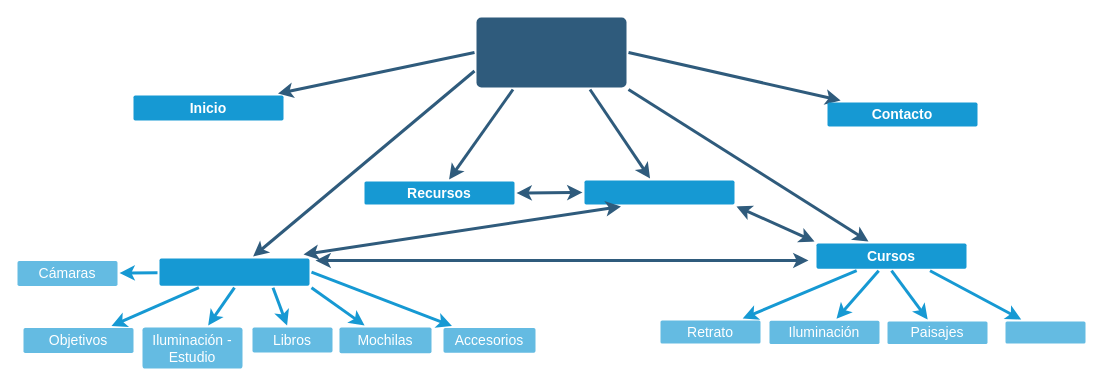
The diagram is 1102 pixels wide and 385 high, and some of its shapes have lost their labels. Each missing label, with the centre of its shape:
Blog: pixel 659 192
Eventos: pixel 1045 332
PhotoLazo: pixel 551 52
Productos: pixel 234 271
